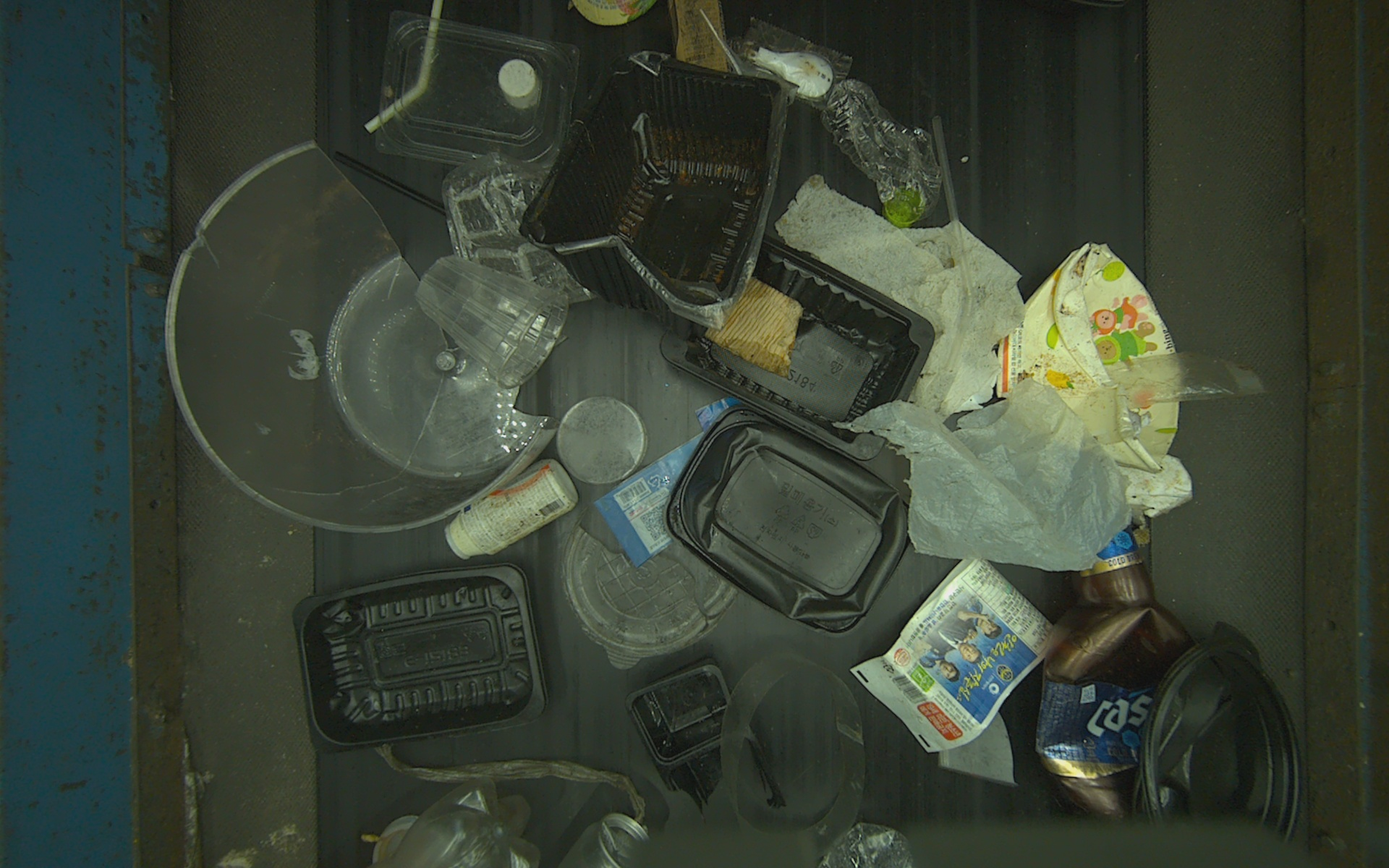PET: (1035, 532, 1195, 820)
PET-C: (376, 10, 580, 169), (415, 255, 568, 389), (821, 79, 943, 227)
PP-B: (519, 55, 785, 313), (661, 234, 935, 460), (663, 406, 910, 632), (293, 564, 546, 753), (1132, 622, 1310, 818)
PS-W: (444, 459, 578, 560)
